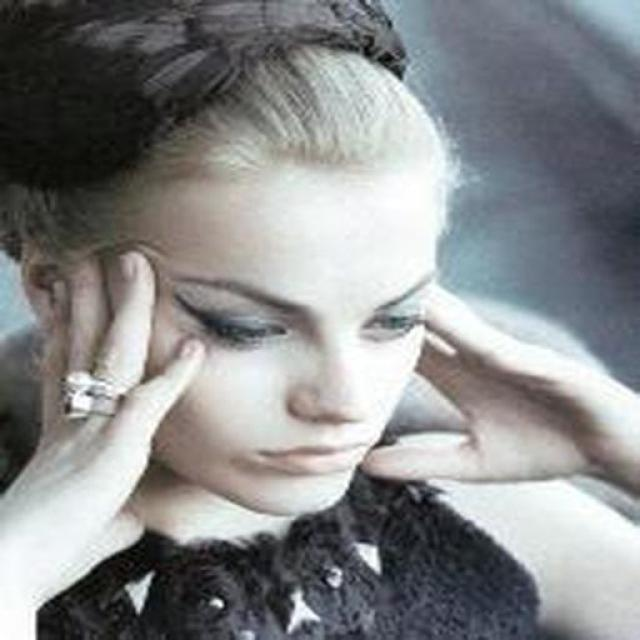bareface: (110, 74, 447, 522)
